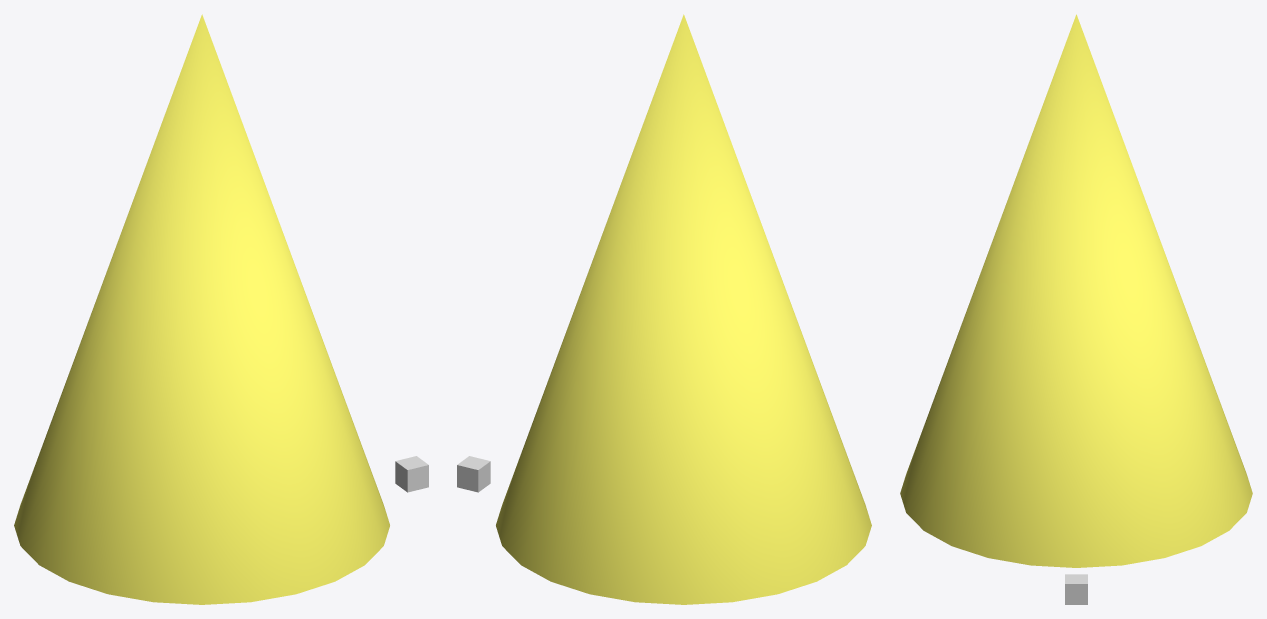
File: asset.gltf
3 renders of one model, left to right at view 1: azimuth 30°, elevation 25°; view 2: azimuth 150°, elevation 25°; view 3: azimuth 270°, elevation 25°, orthographic. The views are drawn at different scales.
Parts seen in each view (by area): view 1: Cone001, Cube; view 2: Cone001, Cube; view 3: Cone001, Cube.
Boxes of the visible parts, x1,y1,x2,y2 form: Cone001: (14, 14, 389, 604); Cube: (395, 456, 428, 492); Cone001: (496, 14, 871, 604); Cube: (457, 456, 490, 492); Cone001: (900, 14, 1252, 567); Cube: (1065, 574, 1087, 604).
Size of the model in its own units: 35.88 by 46.72 by 30.48.
